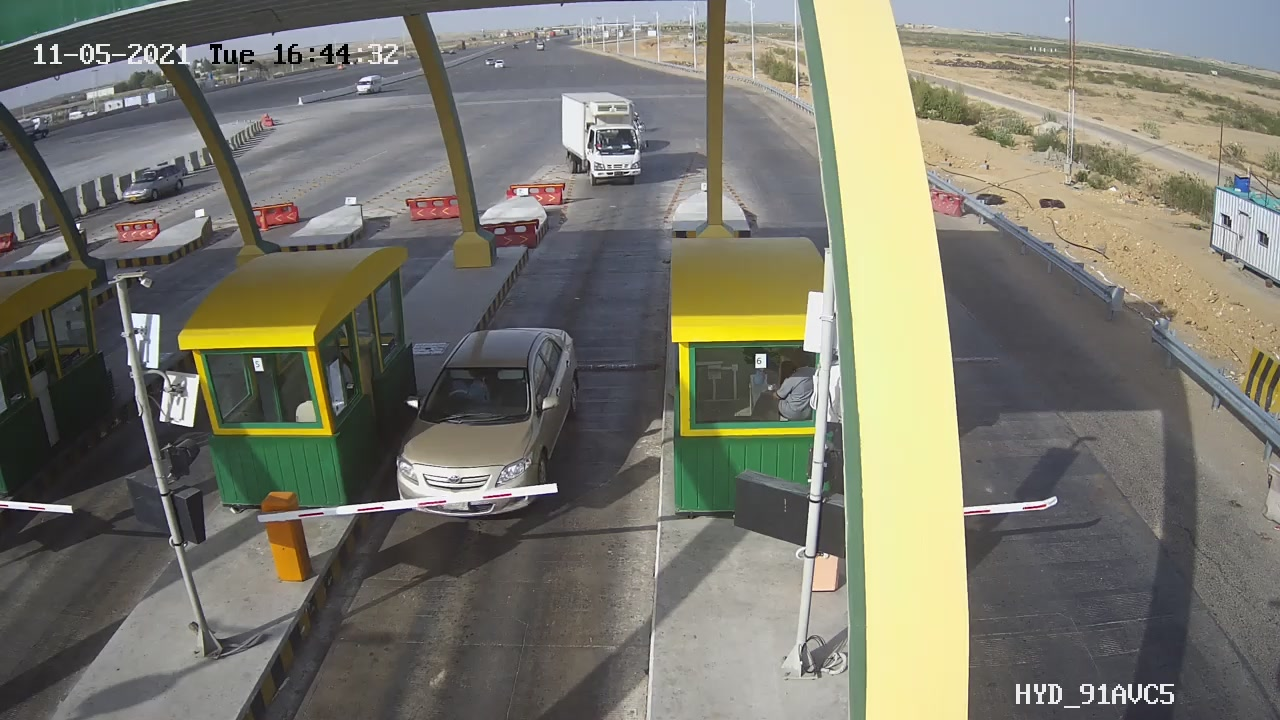F1: (367, 306, 605, 549)
